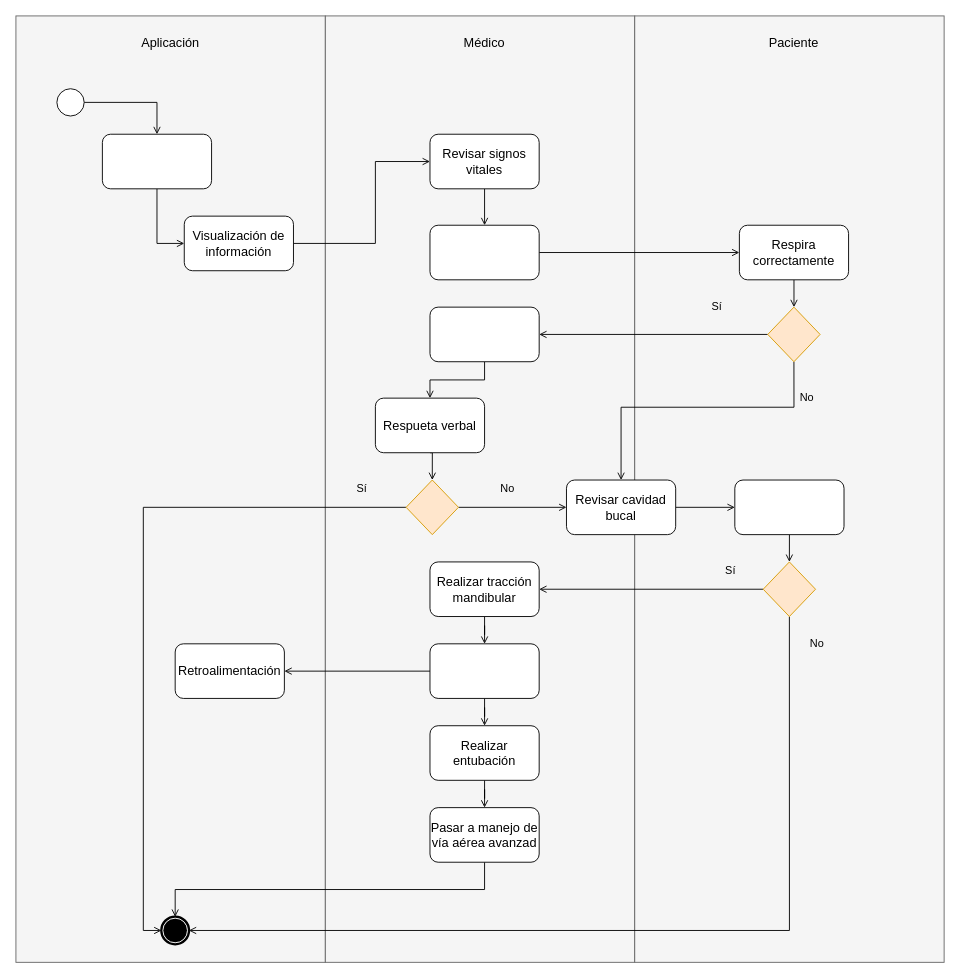
The diagram is 960 pixels wide and 978 high, and some of its shapes have lost their labels. The shapes that lost their labels are listed below. From the top down, each one's centre as x and y in pixels, then its label:
At point 156,161: "Reconocimiento de la escena".
At point 484,252: "Revisar respiración".
At point 484,334: "Realizar preguntas".
At point 789,507: "Via aérea obstruida".
At point 484,670: "Seleccionar canula adecuada".
